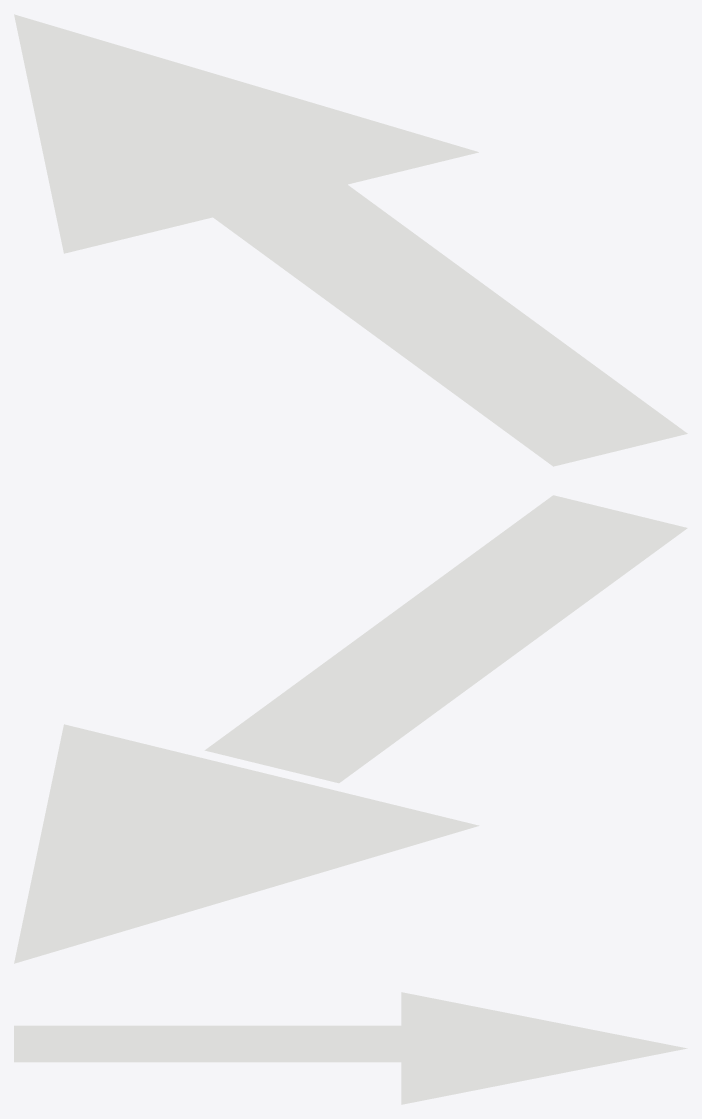
The model's file is flecha calle.fbx.
3 views of the same model, one above another, from view 1: azimuth 30°, elevation 25°; view 2: azimuth 150°, elevation 25°; view 3: azimuth 270°, elevation 25° (orthographic). The views are drawn at different scales.
Parts seen in each view (by area): view 1: Plane.037; view 2: Plane.037; view 3: Plane.037.
Part boxes in pixels (box(x1,y1,x2,y2)): Plane.037: box(14, 14, 687, 466); Plane.037: box(14, 495, 687, 963); Plane.037: box(14, 992, 687, 1104).
Size of the model in its own units: 54.23 by 1 by 137.
Materials: 1 (1 with a texture image).
